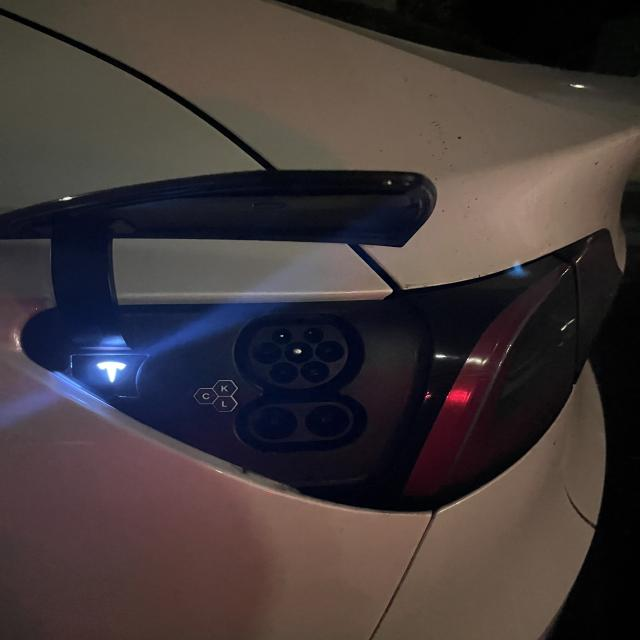inlet: (248, 324, 348, 389)
inlet-above-left: (271, 329, 292, 344)
inlet-above-right: (303, 328, 324, 343)
inlet-below-left: (269, 362, 298, 383)
inlet-below-right: (301, 362, 329, 382)
inlet-circle: (284, 341, 313, 363)
inlet-circle-left: (252, 343, 282, 363)
inlet-circle-right: (315, 340, 345, 362)
inlet-minus: (304, 405, 350, 437)
inlet-plus: (252, 407, 298, 439)
